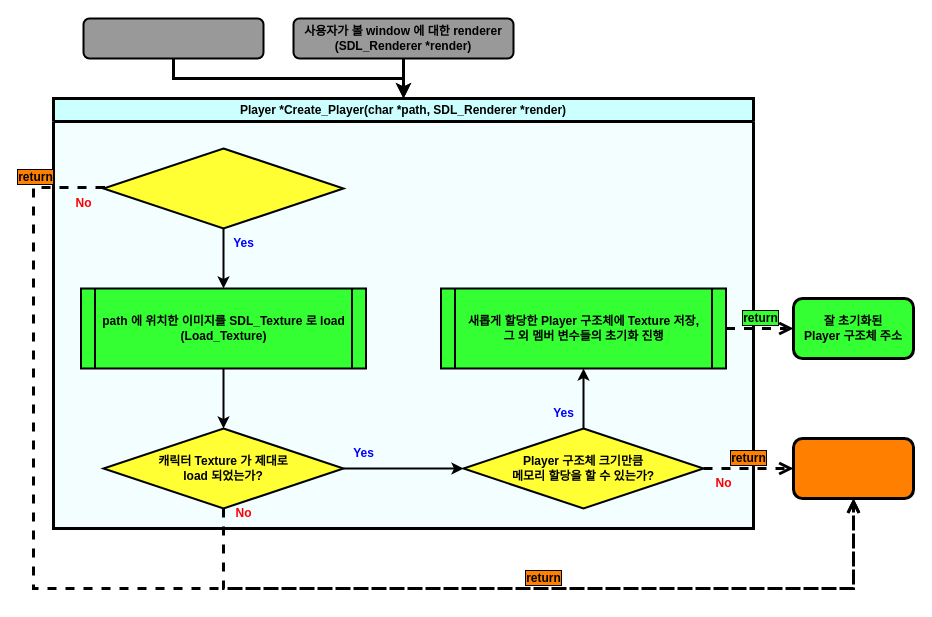
This 932x617 diagram has some shape labels left out. Each missing label, with the centre of its shape:
Null: (x=853, y=468)
매개변수 render 가 초기화 되었는가?: (x=223, y=188)
캐릭터 이미지가 위치한 path (char *path): (x=173, y=38)
